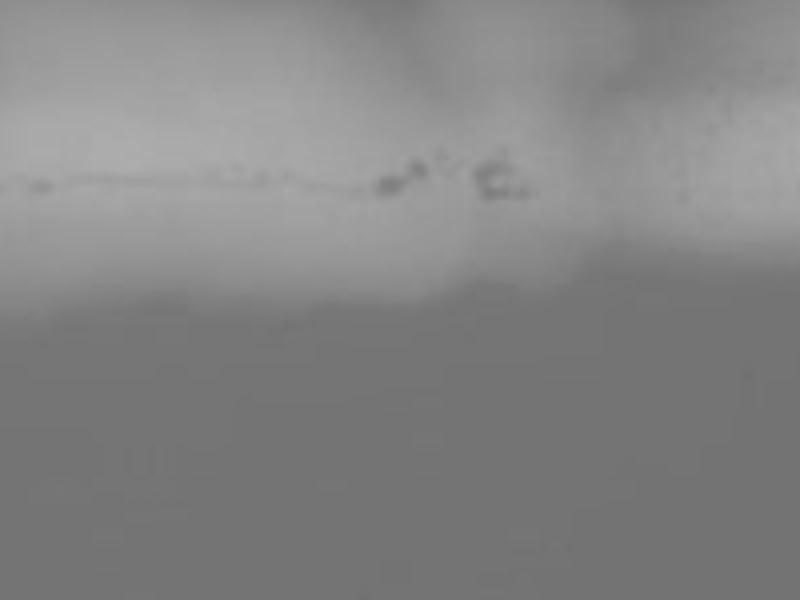defect: (369, 173, 404, 201), (467, 159, 509, 177), (478, 181, 514, 202), (402, 159, 428, 180), (30, 173, 53, 192), (517, 183, 535, 203)
